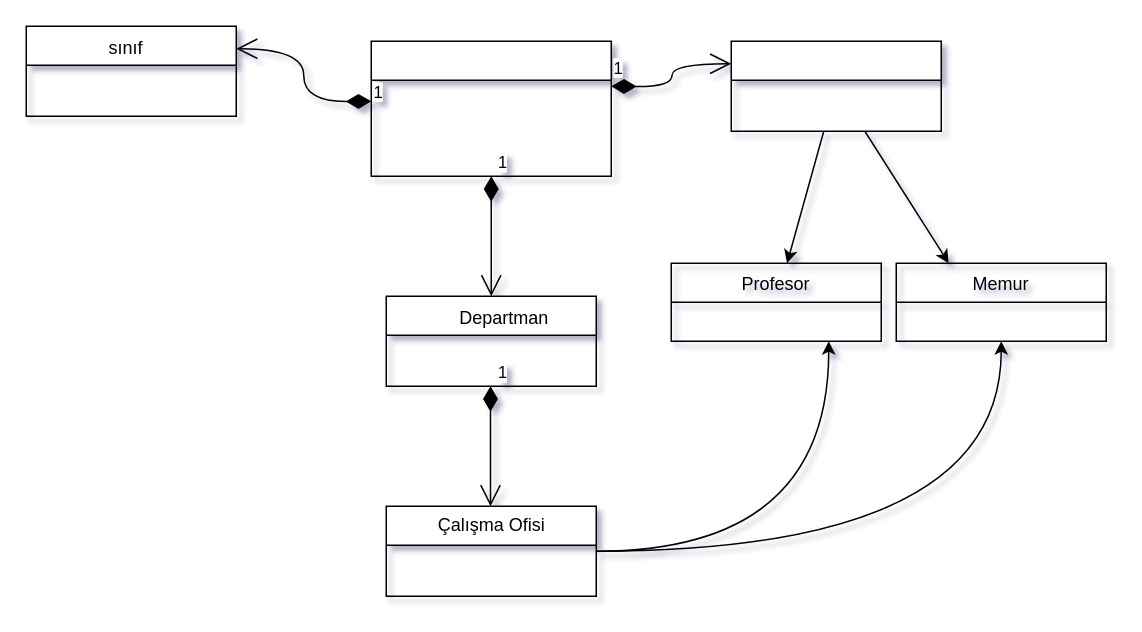
Image size: 1142x632. Some labels were removed from this diagram. The shapes that lost their labels are listed below. From the top down, each one's box as (x1, y1, x2, y2) in pixels, then its label:
(730, 40, 941, 131): Ofis
(370, 40, 611, 176): Universite
